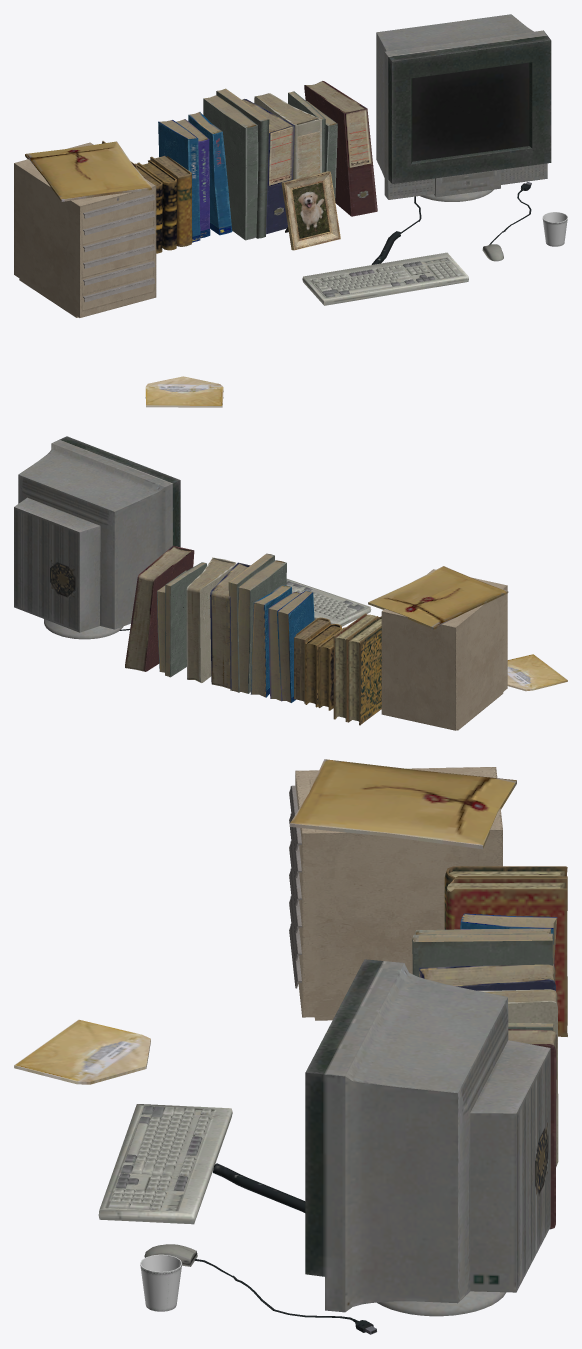
Rendered from sm39_027_starsdeskset01a.fbx.
3 renders of one model, top to bottom at view 1: azimuth 30°, elevation 25°; view 2: azimuth 150°, elevation 25°; view 3: azimuth 270°, elevation 25°, orthographic. The views are drawn at different scales.
Parts seen in each view (by area): view 1: LOD_1_Group_0_Sub_2__sm31_032_CommissionerPc01A_A_Mat, LOD_1_Group_0_Sub_3__sm30_067_FileCabinet01A_A_Mat, LOD_1_Group_0_Sub_6__sm36_008_Envelope01A_A, LOD_1_Group_0_Sub_5__sm42_002_DesktopPc01A_A_Mat, LOD_1_Group_9_Sub_1__sm36_007_PaperWork01A_A_Mat, LOD_1_Group_3_Sub_1__sm36_007_PaperWork01A_A_Mat, LOD_1_Group_3_Sub_2__sm36_001_BookSet01A_A_Mat, LOD_1_Group_4_Sub_1__sm36_007_PaperWork01A_A_Mat, LOD_1_Group_7_Sub_1__sm36_007_PaperWork01A_A_Mat, LOD_1_Group_2_Sub_1__sm36_007_PaperWork01A_A_Mat, LOD_1_Group_0_Sub_7__sm32_036_PhotoFrame01B_A_Mat, LOD_1_Group_0_Sub_1__sm36_007_PaperWork01A_A_Mat (+7 smaller); view 2: LOD_1_Group_0_Sub_2__sm31_032_CommissionerPc01A_A_Mat, LOD_1_Group_0_Sub_3__sm30_067_FileCabinet01A_A_Mat, LOD_1_Group_3_Sub_2__sm36_001_BookSet01A_A_Mat, LOD_1_Group_0_Sub_6__sm36_008_Envelope01A_A, LOD_1_Group_9_Sub_1__sm36_007_PaperWork01A_A_Mat, LOD_1_Group_7_Sub_1__sm36_007_PaperWork01A_A_Mat, LOD_1_Group_3_Sub_1__sm36_007_PaperWork01A_A_Mat, LOD_1_Group_4_Sub_1__sm36_007_PaperWork01A_A_Mat, LOD_1_Group_8_Sub_1__sm36_007_PaperWork01A_A_Mat, LOD_1_Group_0_Sub_1__sm36_007_PaperWork01A_A_Mat, LOD_1_Group_2_Sub_1__sm36_007_PaperWork01A_A_Mat, LOD_1_Group_0_Sub_5__sm42_002_DesktopPc01A_A_Mat (+4 smaller); view 3: LOD_1_Group_0_Sub_2__sm31_032_CommissionerPc01A_A_Mat, LOD_1_Group_0_Sub_3__sm30_067_FileCabinet01A_A_Mat, LOD_1_Group_0_Sub_6__sm36_008_Envelope01A_A, LOD_1_Group_0_Sub_5__sm42_002_DesktopPc01A_A_Mat, LOD_1_Group_3_Sub_2__sm36_001_BookSet01A_A_Mat, LOD_1_Group_5_Sub_1__sm36_007_PaperWork01A_A_Mat, LOD_1_Group_4_Sub_1__sm36_007_PaperWork01A_A_Mat, LOD_1_Group_7_Sub_1__sm36_007_PaperWork01A_A_Mat, LOD_1_Group_2_Sub_2__sm36_014_PaperCup01A_A_Mat, LOD_1_Group_9_Sub_1__sm36_007_PaperWork01A_A_Mat, LOD_1_Group_0_Sub_4__sm31_021_KeyBoard01A_A_Mat1, LOD_1_Group_1_Sub_2__sm31_032_CommissionerPc01A_A_Mat (+2 smaller).
Part boxes in pixels (box(x1,y1,x2,y2)): LOD_1_Group_0_Sub_2__sm31_032_CommissionerPc01A_A_Mat: box(376, 14, 551, 199); LOD_1_Group_0_Sub_3__sm30_067_FileCabinet01A_A_Mat: box(14, 142, 156, 317); LOD_1_Group_0_Sub_6__sm36_008_Envelope01A_A: box(25, 141, 223, 407); LOD_1_Group_0_Sub_5__sm42_002_DesktopPc01A_A_Mat: box(302, 244, 503, 305); LOD_1_Group_9_Sub_1__sm36_007_PaperWork01A_A_Mat: box(304, 81, 377, 216); LOD_1_Group_3_Sub_1__sm36_007_PaperWork01A_A_Mat: box(203, 95, 258, 240); LOD_1_Group_3_Sub_2__sm36_001_BookSet01A_A_Mat: box(102, 141, 192, 253); LOD_1_Group_4_Sub_1__sm36_007_PaperWork01A_A_Mat: box(242, 99, 294, 234); LOD_1_Group_7_Sub_1__sm36_007_PaperWork01A_A_Mat: box(254, 93, 321, 179); LOD_1_Group_2_Sub_1__sm36_007_PaperWork01A_A_Mat: box(188, 112, 232, 235); LOD_1_Group_0_Sub_7__sm32_036_PhotoFrame01B_A_Mat: box(281, 171, 340, 250); LOD_1_Group_0_Sub_1__sm36_007_PaperWork01A_A_Mat: box(158, 120, 200, 242); LOD_1_Group_0_Sub_2__sm31_032_CommissionerPc01A_A_Mat: box(14, 436, 180, 632); LOD_1_Group_0_Sub_3__sm30_067_FileCabinet01A_A_Mat: box(381, 569, 507, 730); LOD_1_Group_3_Sub_2__sm36_001_BookSet01A_A_Mat: box(294, 613, 381, 725); LOD_1_Group_0_Sub_6__sm36_008_Envelope01A_A: box(368, 566, 567, 691); LOD_1_Group_9_Sub_1__sm36_007_PaperWork01A_A_Mat: box(125, 546, 194, 671); LOD_1_Group_7_Sub_1__sm36_007_PaperWork01A_A_Mat: box(186, 557, 236, 682); LOD_1_Group_3_Sub_1__sm36_007_PaperWork01A_A_Mat: box(238, 560, 286, 693); LOD_1_Group_4_Sub_1__sm36_007_PaperWork01A_A_Mat: box(210, 562, 250, 689); LOD_1_Group_8_Sub_1__sm36_007_PaperWork01A_A_Mat: box(165, 562, 206, 677); LOD_1_Group_0_Sub_1__sm36_007_PaperWork01A_A_Mat: box(277, 590, 314, 702); LOD_1_Group_2_Sub_1__sm36_007_PaperWork01A_A_Mat: box(250, 585, 291, 697); LOD_1_Group_0_Sub_5__sm42_002_DesktopPc01A_A_Mat: box(286, 579, 371, 626); LOD_1_Group_0_Sub_2__sm31_032_CommissionerPc01A_A_Mat: box(305, 959, 550, 1312); LOD_1_Group_0_Sub_3__sm30_067_FileCabinet01A_A_Mat: box(289, 767, 502, 1020); LOD_1_Group_0_Sub_6__sm36_008_Envelope01A_A: box(14, 759, 516, 1084); LOD_1_Group_0_Sub_5__sm42_002_DesktopPc01A_A_Mat: box(98, 1104, 232, 1266); LOD_1_Group_3_Sub_2__sm36_001_BookSet01A_A_Mat: box(444, 866, 567, 1036); LOD_1_Group_5_Sub_1__sm36_007_PaperWork01A_A_Mat: box(412, 933, 552, 976); LOD_1_Group_4_Sub_1__sm36_007_PaperWork01A_A_Mat: box(419, 964, 555, 990); LOD_1_Group_7_Sub_1__sm36_007_PaperWork01A_A_Mat: box(477, 989, 558, 1165); LOD_1_Group_2_Sub_2__sm36_014_PaperCup01A_A_Mat: box(140, 1254, 182, 1311); LOD_1_Group_9_Sub_1__sm36_007_PaperWork01A_A_Mat: box(508, 1029, 556, 1229); LOD_1_Group_0_Sub_4__sm31_021_KeyBoard01A_A_Mat1: box(194, 1163, 376, 1334); LOD_1_Group_1_Sub_2__sm31_032_CommissionerPc01A_A_Mat: box(377, 1291, 506, 1316).
Bounding box in the file's own units: 1.63 × 0.6368 × 0.967.
